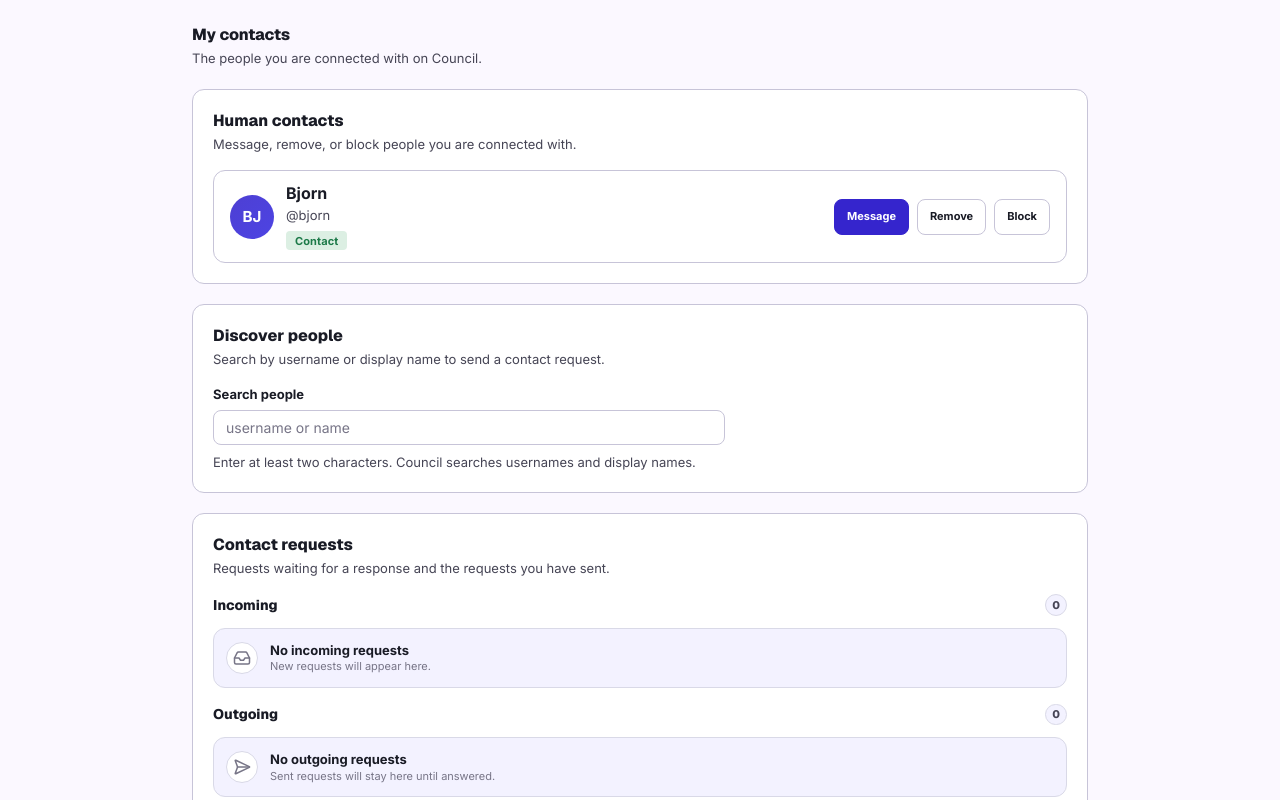
Scenario: ContactsPage messaging action › shows a generic unavailable message when the conversation cannot be opened
The width and height of the screenshot is (1280, 800).
Expected: the text "Bjorn" is shown, x1=286 y1=183 x2=327 y2=203
Step 1. Click the button "Message" → coordinates (871, 217), box x1=834 y1=199 x2=909 y2=235
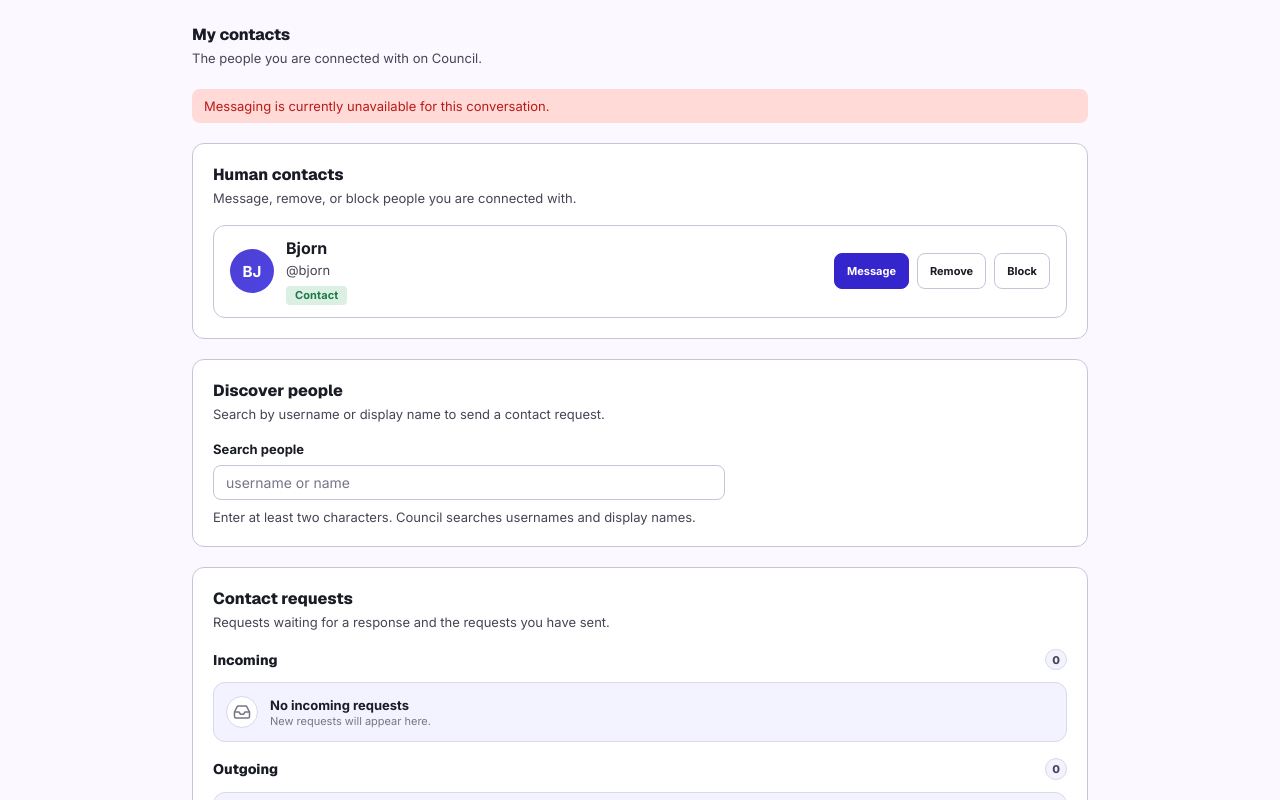
Now the text "Messaging is currently unavailable for this conversation." is shown, box x1=192 y1=88 x2=1088 y2=123
